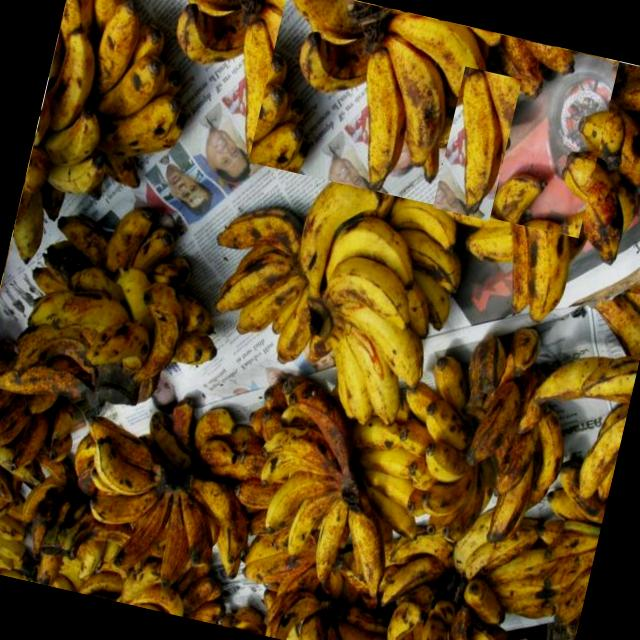Banana: (182, 152, 474, 439), (5, 0, 217, 293), (7, 192, 243, 434), (52, 374, 292, 610), (217, 372, 450, 610), (327, 2, 496, 208)
